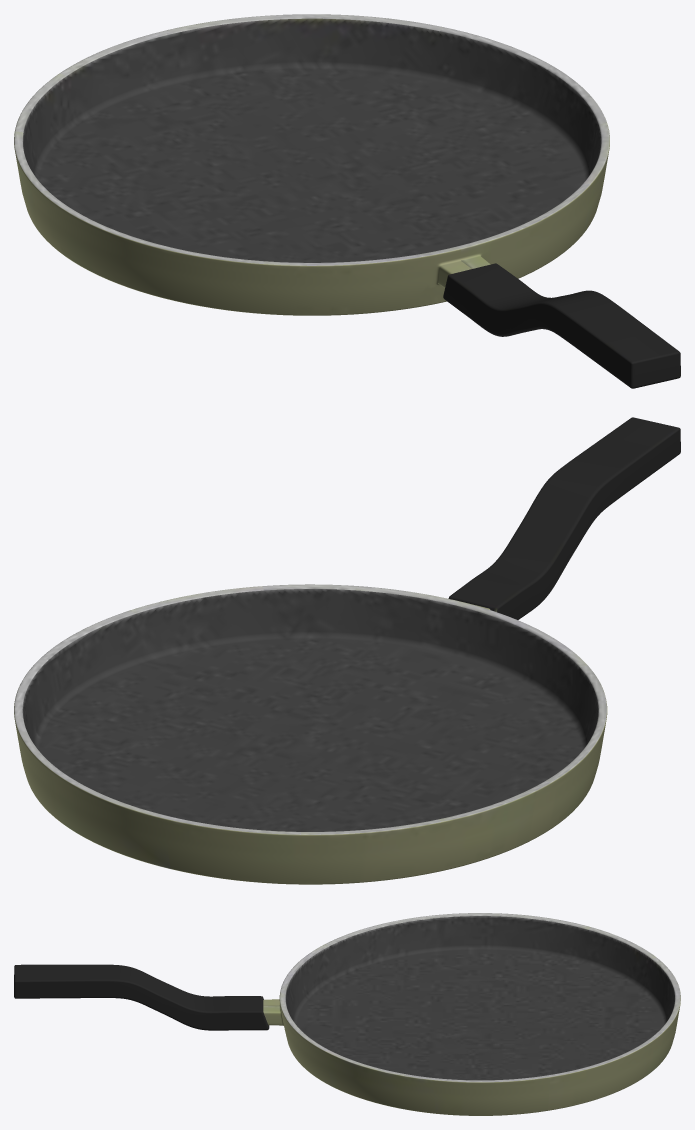
Rendered from stock_pot.glb.
The picture shows the model from 3 angles, top to bottom: view 1: azimuth 30°, elevation 25°; view 2: azimuth 150°, elevation 25°; view 3: azimuth 270°, elevation 25°; orthographic projection. The views are drawn at different scales.
Visible parts, largest first — view 1: body; view 2: body; view 3: body.
Part boxes in pixels (x1=…): body: x1=14, y1=14, x2=680, y2=388; body: x1=14, y1=417, x2=680, y2=884; body: x1=14, y1=913, x2=680, y2=1115.
Size of the model in its own units: 0.2593 by 0.0445 by 0.431.
Materials: 2 (2 with a texture image).
